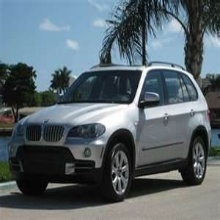no damage: (7, 61, 212, 201)
